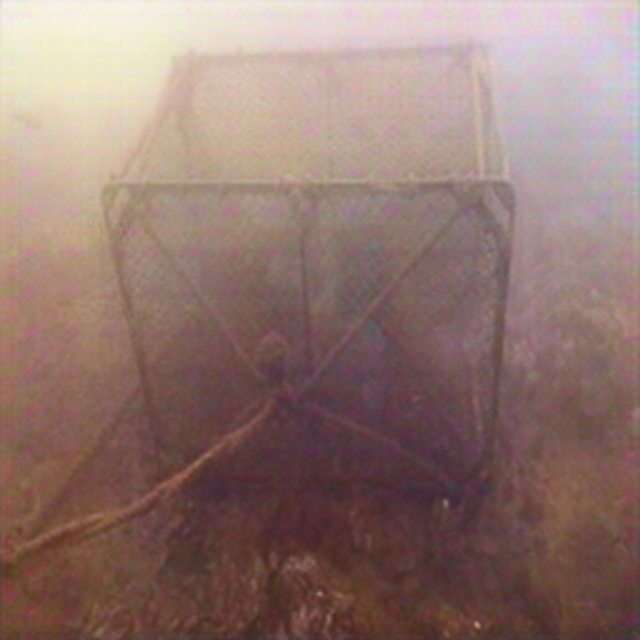mine: (99, 36, 517, 500)
